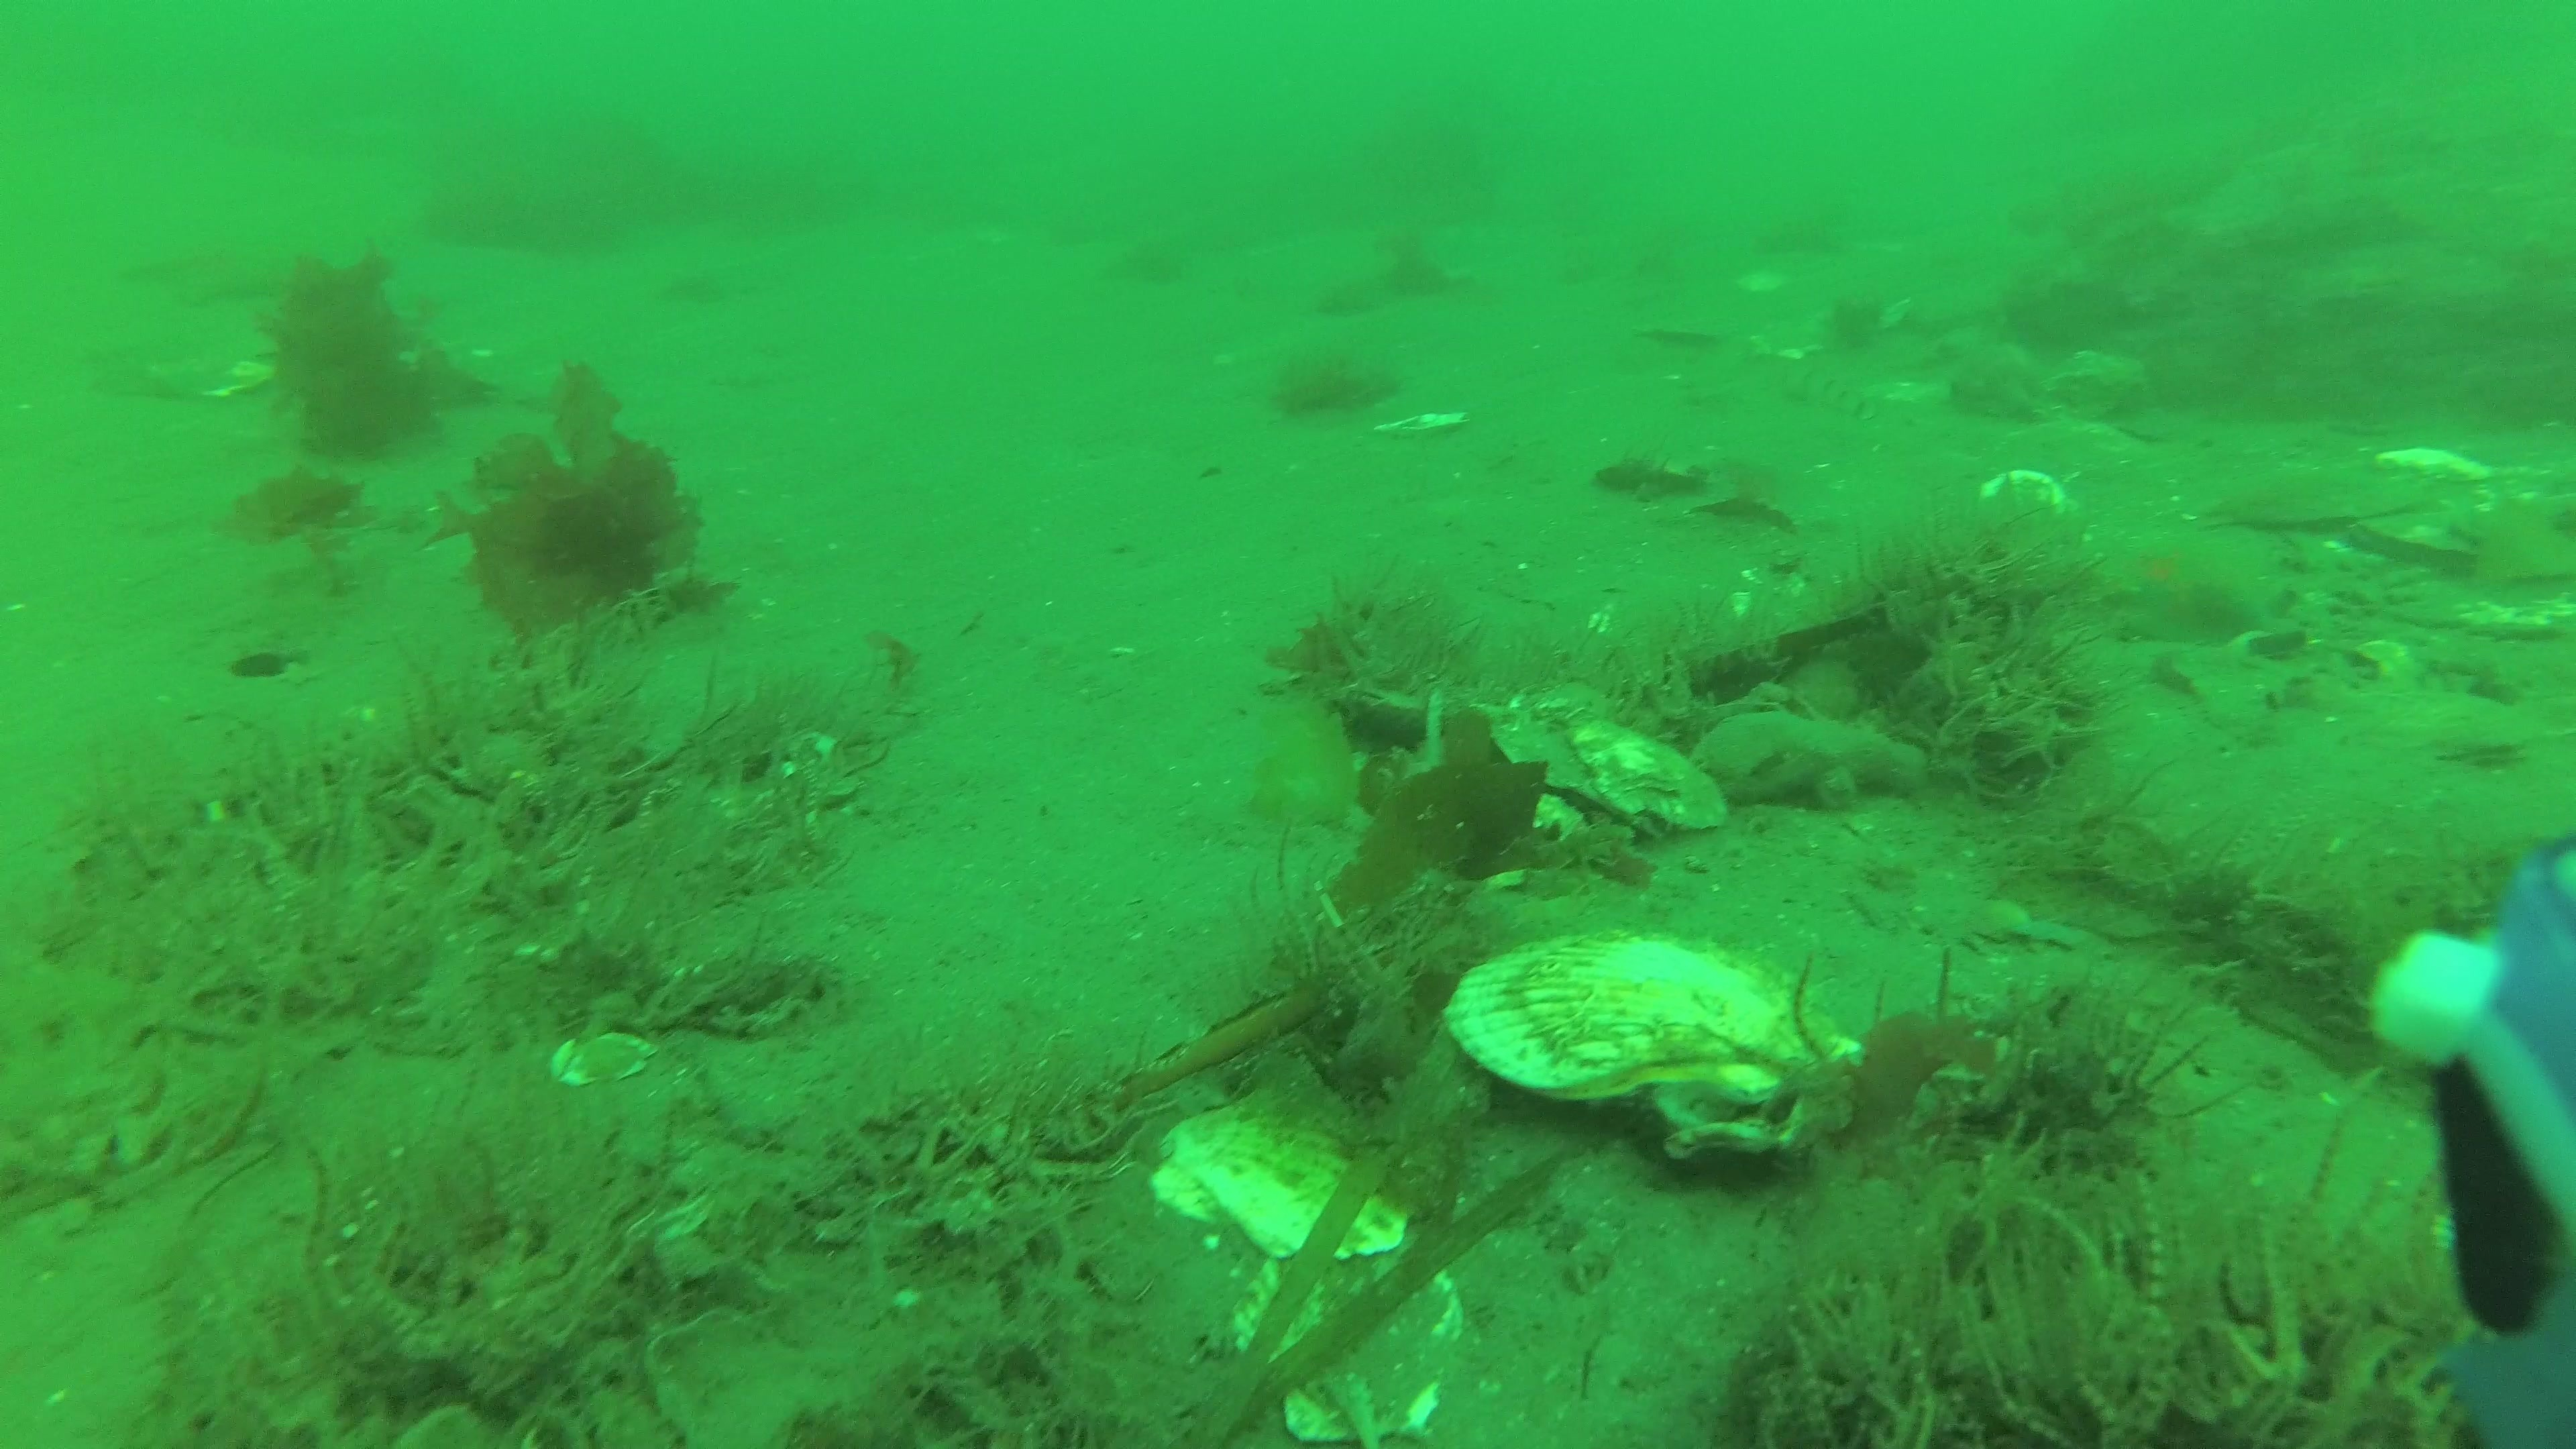scallop: (1438, 927, 1872, 1136), (1159, 1085, 1431, 1265), (1230, 1246, 1463, 1449), (1571, 717, 1734, 837), (1479, 676, 1629, 801)
starfish: (2081, 517, 2318, 669)
